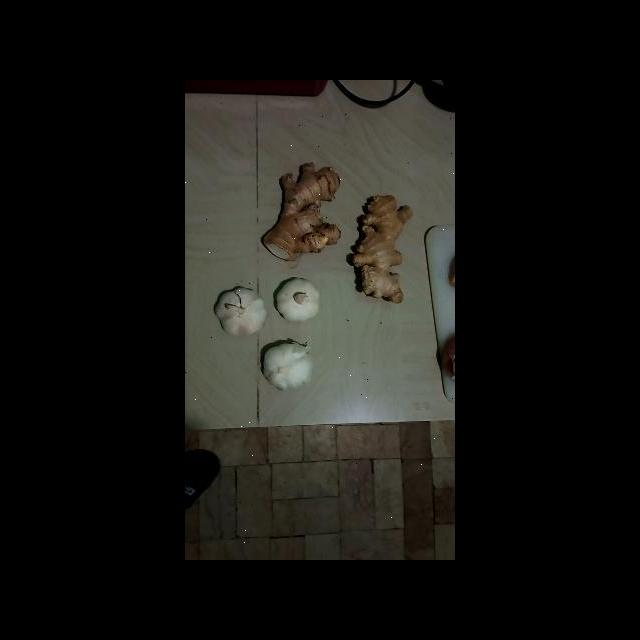garlic: (263, 334, 316, 392), (213, 285, 265, 335), (274, 277, 320, 324)
ginger: (260, 161, 343, 262), (350, 190, 418, 306)
